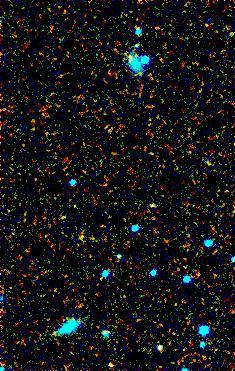star: (100, 347, 130, 371)
